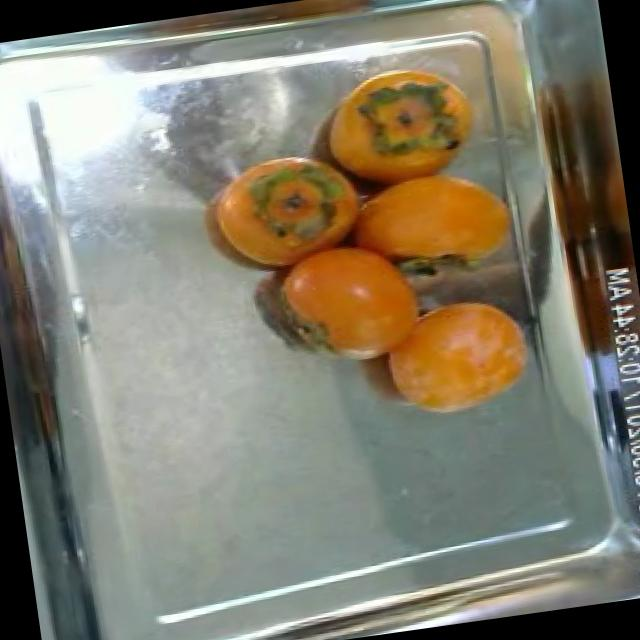Fruit: (190, 138, 387, 288), (368, 282, 548, 434)
